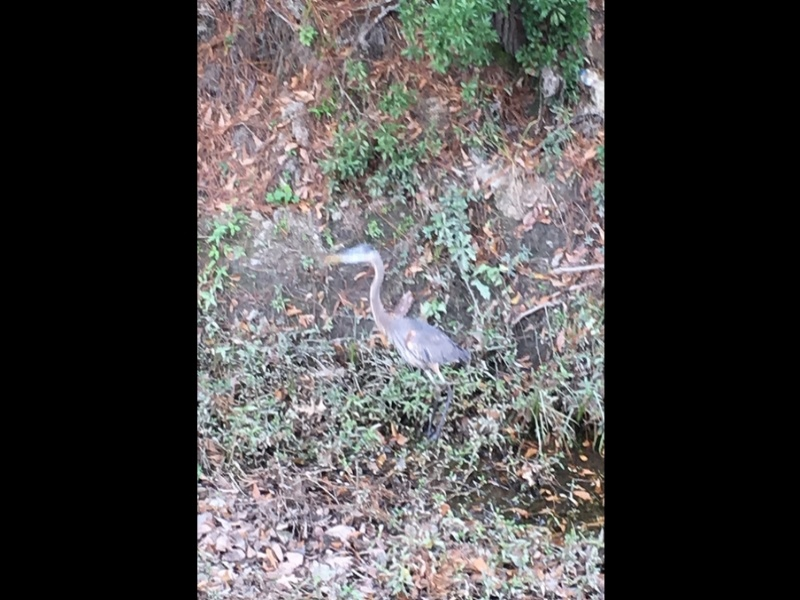heron: (319, 239, 469, 387)
